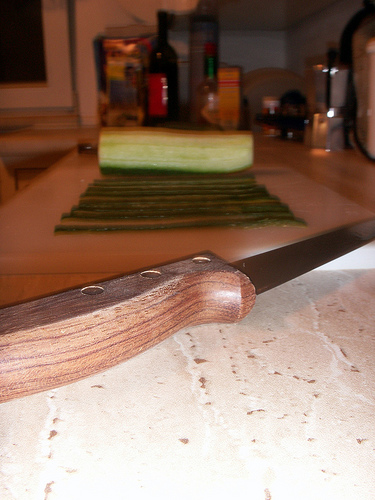cucumber: (96, 127, 255, 173)
